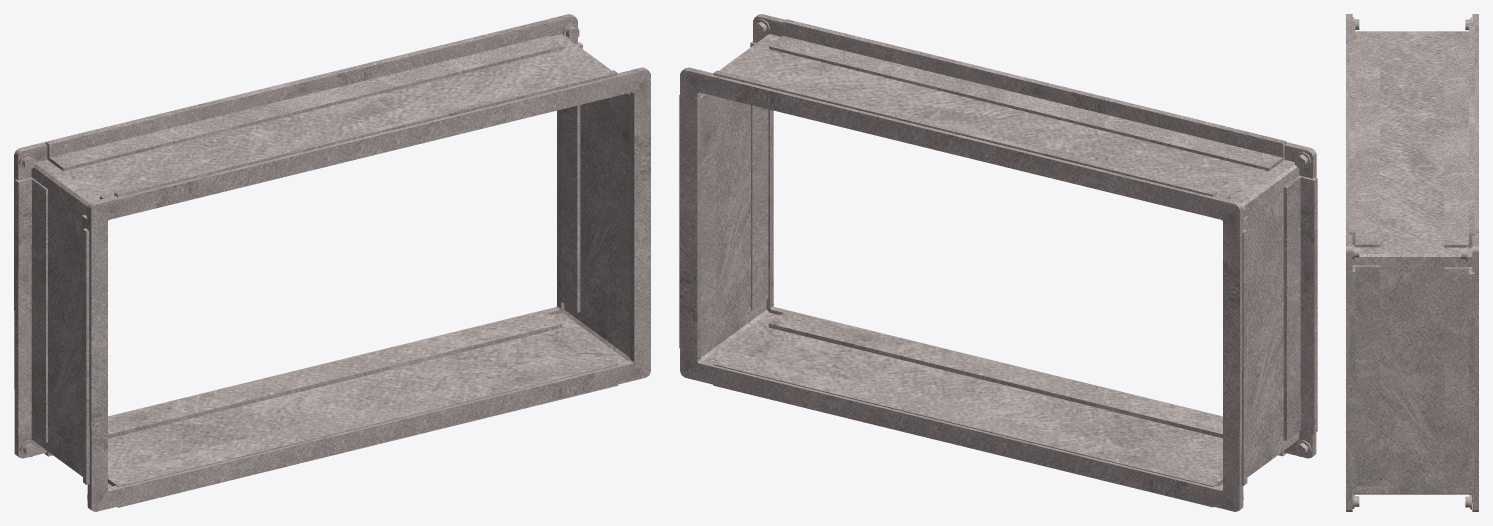
Rendered from SM_Square_Ducting_01m.glb.
The picture shows the model from 3 angles, left to right: view 1: azimuth 30°, elevation 25°; view 2: azimuth 150°, elevation 25°; view 3: azimuth 270°, elevation 25°; orthographic projection. The views are drawn at different scales.
Parts seen in each view (by area): view 1: SM_Square_Ducting_01m; view 2: SM_Square_Ducting_01m; view 3: SM_Square_Ducting_01m.
Boxes of the visible parts, bbox=[...] form: SM_Square_Ducting_01m: bbox=[14, 14, 650, 511]; SM_Square_Ducting_01m: bbox=[679, 14, 1317, 511]; SM_Square_Ducting_01m: bbox=[1346, 14, 1478, 511].
Bounding box in the file's own units: 1.06 × 0.5617 × 0.25.
Materials: 1 (1 with a texture image).
